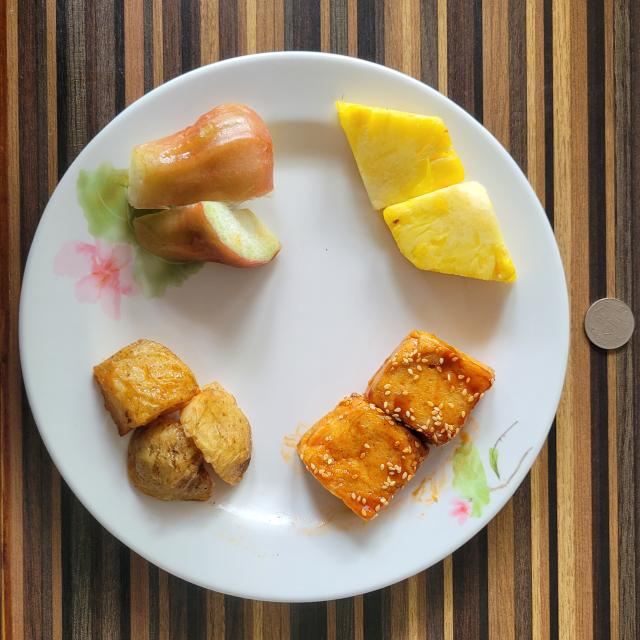coin: (585, 298, 635, 349)
creamy tofu: (298, 330, 495, 520)
fried potato: (94, 340, 252, 501)
pineapple: (336, 101, 516, 282)
